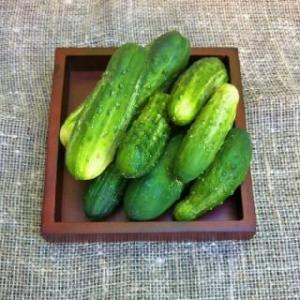cucumber: (64, 43, 148, 181), (174, 127, 254, 221), (170, 82, 240, 184), (117, 92, 171, 179), (169, 55, 227, 125)
